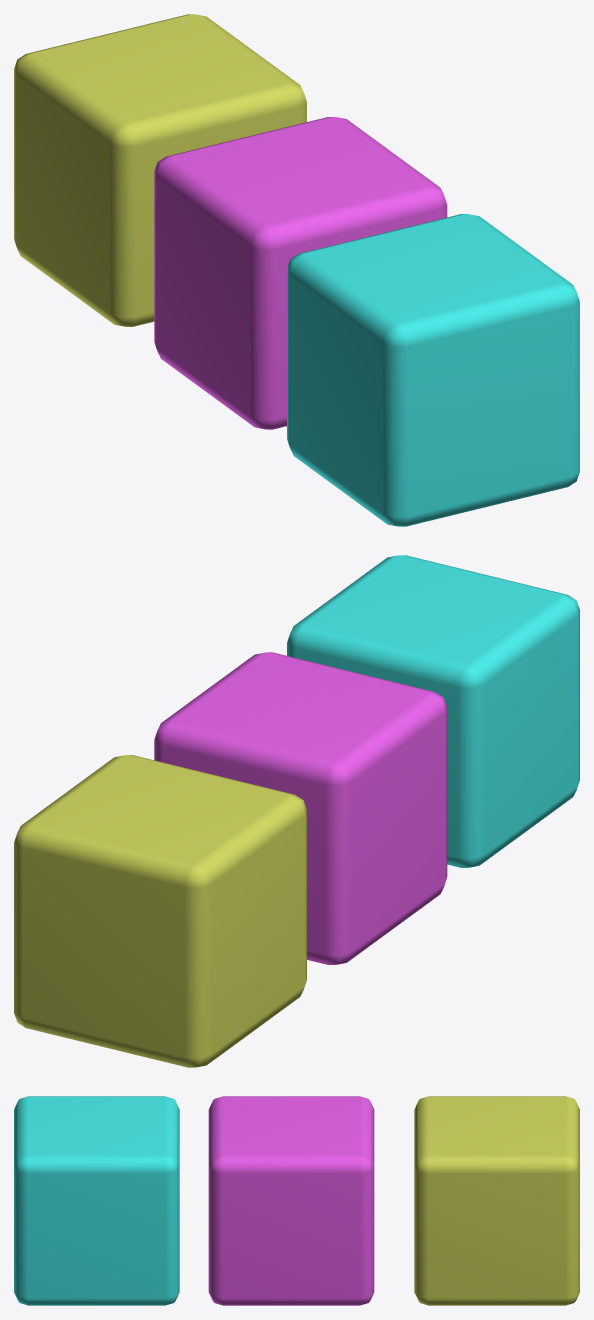
Rendered from Collectible.fbx.
3 views of the same model, one above another, from view 1: azimuth 30°, elevation 25°; view 2: azimuth 150°, elevation 25°; view 3: azimuth 270°, elevation 25° (orthographic). The views are drawn at different scales.
Visible parts, largest first — view 1: Cube.001, Cube.002, Cube; view 2: Cube.002, Cube, Cube.001; view 3: Cube, Cube.001, Cube.002.
Boxes of the visible parts, x1,y1,x2,y2 form: Cube.001: (287, 214, 579, 526); Cube.002: (14, 14, 306, 326); Cube: (154, 117, 447, 429); Cube.002: (14, 755, 306, 1067); Cube: (154, 652, 447, 964); Cube.001: (287, 555, 579, 867); Cube: (208, 1096, 374, 1305); Cube.001: (14, 1096, 179, 1305); Cube.002: (414, 1096, 579, 1305).
Bounding box in the file's own units: 89.1 × 89.1 × 305.
